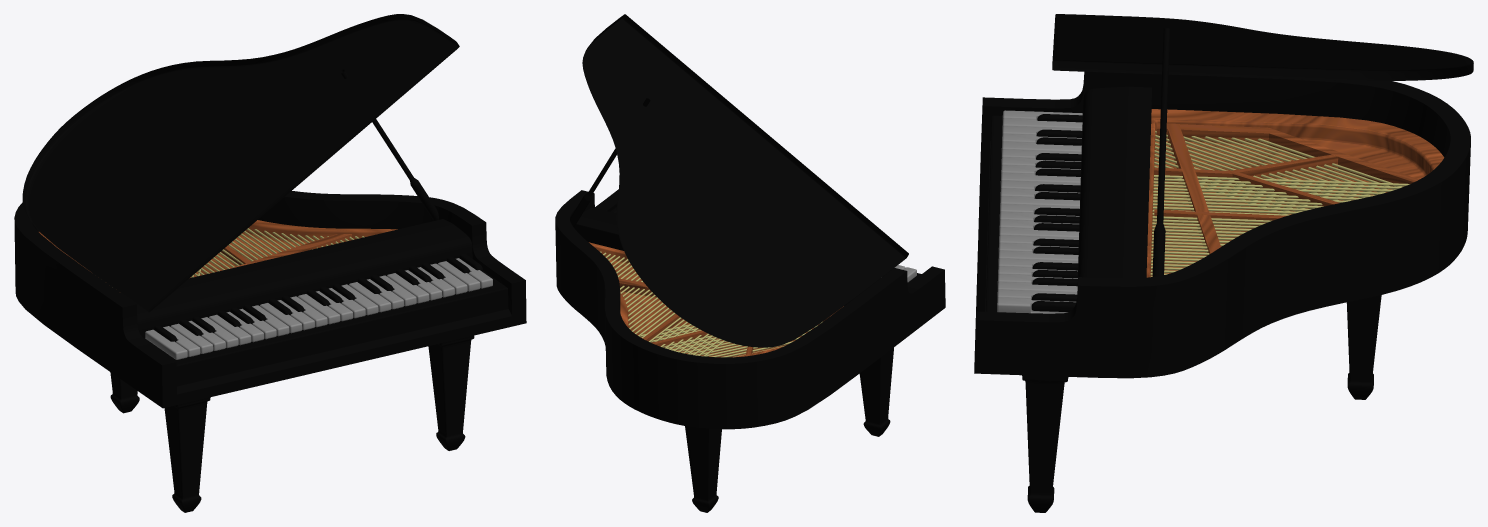
The model's file is piano.glb.
3 views of the same model, side by side, from view 1: azimuth 30°, elevation 25°; view 2: azimuth 150°, elevation 25°; view 3: azimuth 270°, elevation 25° (orthographic). The views are drawn at different scales.
Visible parts, largest first — view 1: Plane, Plane.001, Cube.003, Cube, Cube.009, Plane.002, NurbsPath, Cylinder, Cube.010, Cube.001; view 2: Plane, Plane.001, Cube.010, Plane.002, NurbsPath, Cube.009, Cube.003, NurbsPath.001, Cylinder; view 3: Plane.001, Plane, Cube, Cube.003, Plane.002, NurbsPath, NurbsPath.001, Cube.009, Cube.002, Cube.010, Cylinder, Cube.001 (+3 smaller).
Boxes of the visible parts, box(x1,y1,x2,y2) form: Plane: box(22, 14, 459, 312); Plane.001: box(14, 191, 526, 408); Cube.003: box(137, 219, 508, 386); Cube: box(145, 253, 492, 359); Cube.009: box(164, 335, 474, 512); Plane.002: box(39, 220, 397, 277); NurbsPath: box(191, 228, 364, 277); Cylinder: box(340, 69, 438, 220); Cube.010: box(110, 372, 139, 413); Cube.001: box(229, 234, 351, 268); Plane: box(582, 14, 908, 347); Plane.001: box(555, 189, 945, 429); Cube.010: box(685, 426, 721, 512); Plane.002: box(589, 242, 843, 357); NurbsPath: box(600, 251, 724, 356); Cube.009: box(859, 347, 893, 436); Cube.003: box(574, 207, 921, 305); NurbsPath.001: box(639, 321, 822, 357); Cylinder: box(570, 98, 650, 227); Plane.001: box(974, 71, 1470, 378); Plane: box(1052, 14, 1473, 80); Cube: box(997, 110, 1082, 313); Cube.003: box(986, 86, 1152, 311); Plane.002: box(1146, 109, 1444, 277); NurbsPath: box(1150, 175, 1409, 276); NurbsPath.001: box(1154, 131, 1403, 214); Cube.009: box(1022, 375, 1068, 512); Cube.002: box(1156, 123, 1418, 186); Cube.010: box(1346, 295, 1381, 399); Cylinder: box(1152, 28, 1169, 276); Cube.001: box(1166, 123, 1220, 255).
Bounding box in the file's own units: 0.5068 × 0.5447 × 0.4815.
Materials: 5 (1 with a texture image).
